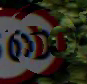Speed limit: (16, 20, 77, 69)
